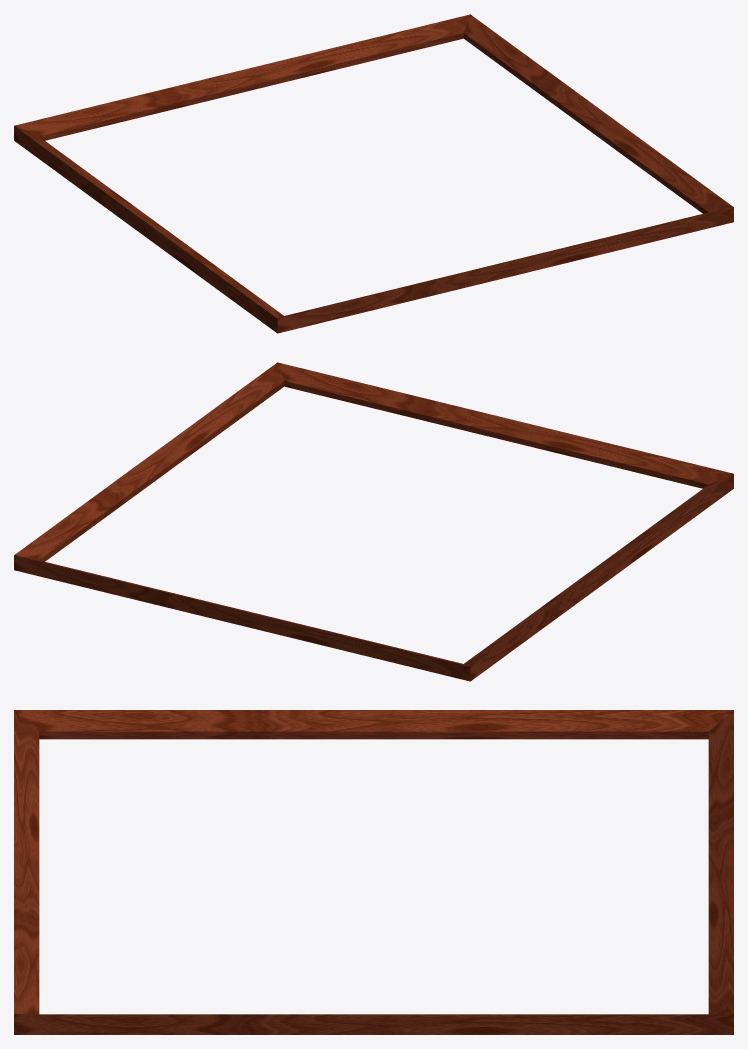
Rendered from trapdoorholderfbx.fbx.
3 views of the same model, one above another, from view 1: azimuth 30°, elevation 25°; view 2: azimuth 150°, elevation 25°; view 3: azimuth 270°, elevation 25° (orthographic). The views are drawn at different scales.
Parts seen in each view (by area): view 1: Cube; view 2: Cube; view 3: Cube.
Part boxes in pixels (x1,y1,x2,y2): Cube: (14, 14, 733, 333); Cube: (14, 362, 733, 681); Cube: (14, 710, 733, 1034).
Size of the model in its own units: 2 by 0.0625 by 2.
